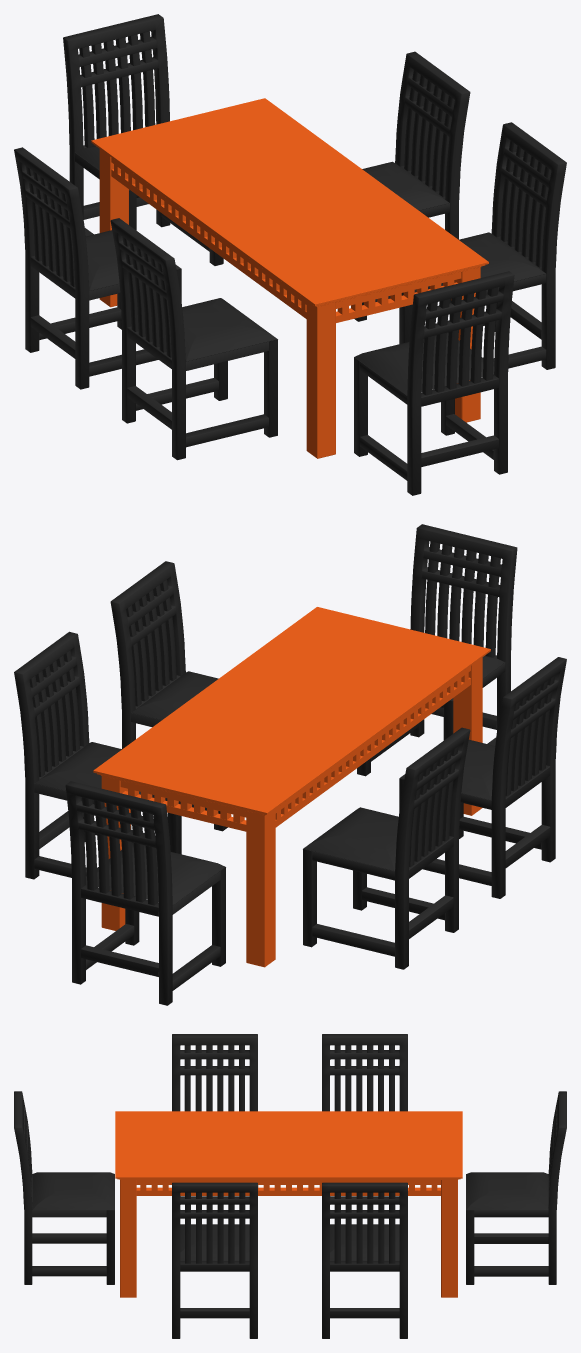
The model's file is Table.fbx.
3 views of the same model, one above another, from view 1: azimuth 30°, elevation 25°; view 2: azimuth 150°, elevation 25°; view 3: azimuth 270°, elevation 25° (orthographic). The views are drawn at different scales.
Visible parts, largest first — view 1: Plane001, Box100, Box096, Box097, Box098, Box101, Box099; view 2: Plane001, Box101, Box097, Box096, Box099, Box100, Box098; view 3: Plane001, Box098, Box099, Box100, Box101, Box096, Box097.
Part boxes in pixels (x1,y1,x2,y2): Plane001: [91, 98, 488, 458]; Box100: [354, 271, 514, 495]; Box096: [110, 218, 277, 460]; Box097: [14, 147, 181, 389]; Box098: [399, 122, 566, 369]; Box101: [63, 14, 223, 265]; Box099: [354, 51, 470, 321]; Plane001: [93, 607, 490, 967]; Box101: [65, 781, 225, 1005]; Box097: [303, 727, 470, 969]; Box096: [399, 657, 566, 898]; Box099: [14, 631, 181, 879]; Box100: [357, 524, 517, 776]; Box098: [110, 561, 227, 831]; Plane001: [115, 1111, 462, 1297]; Box098: [172, 1182, 257, 1338]; Box099: [322, 1182, 407, 1338]; Box100: [14, 1091, 114, 1284]; Box101: [466, 1091, 566, 1284]; Box096: [172, 1034, 257, 1111]; Box097: [322, 1034, 407, 1111].
Bounding box in the file's own units: 52.62 × 25.4 × 80.86.
